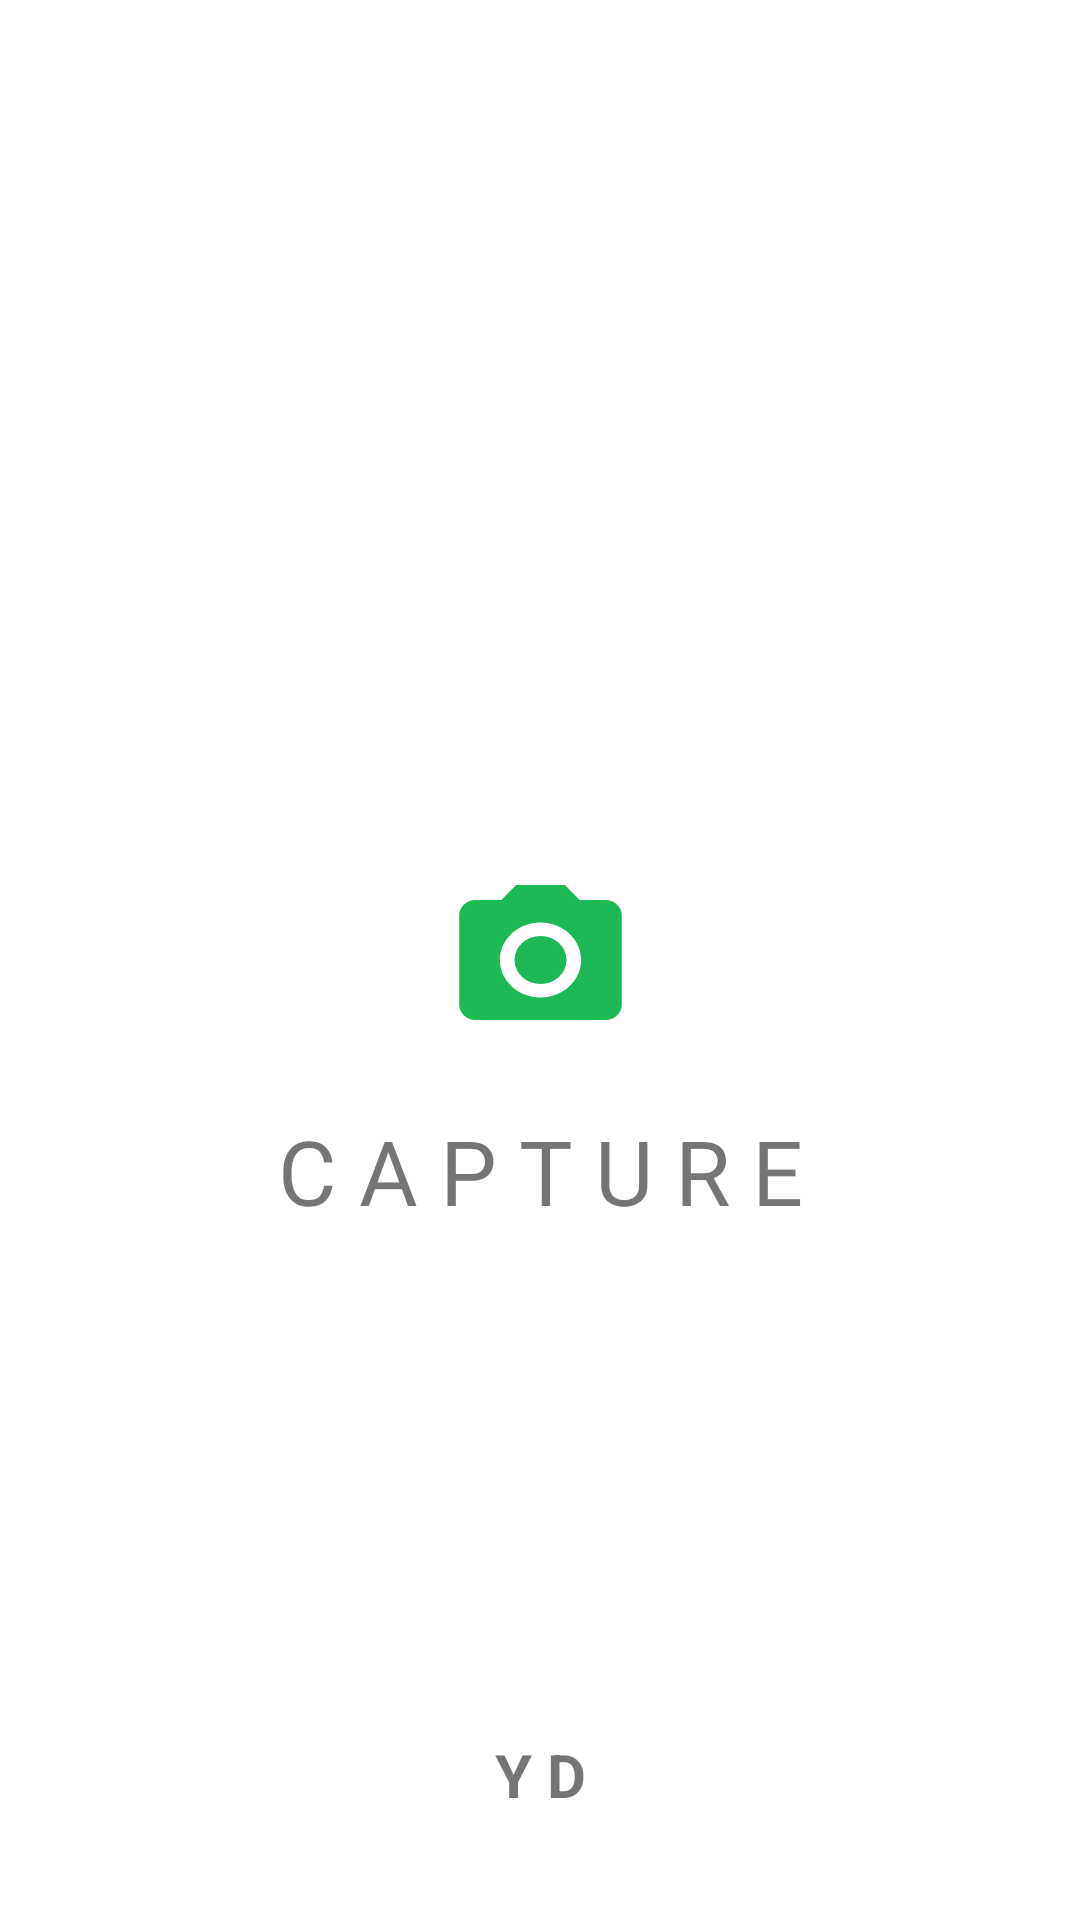

Icons on this 1080px x 1920px Android screen, each with the point to tap as (x=x, y=y):
camera: (x=540, y=952)
